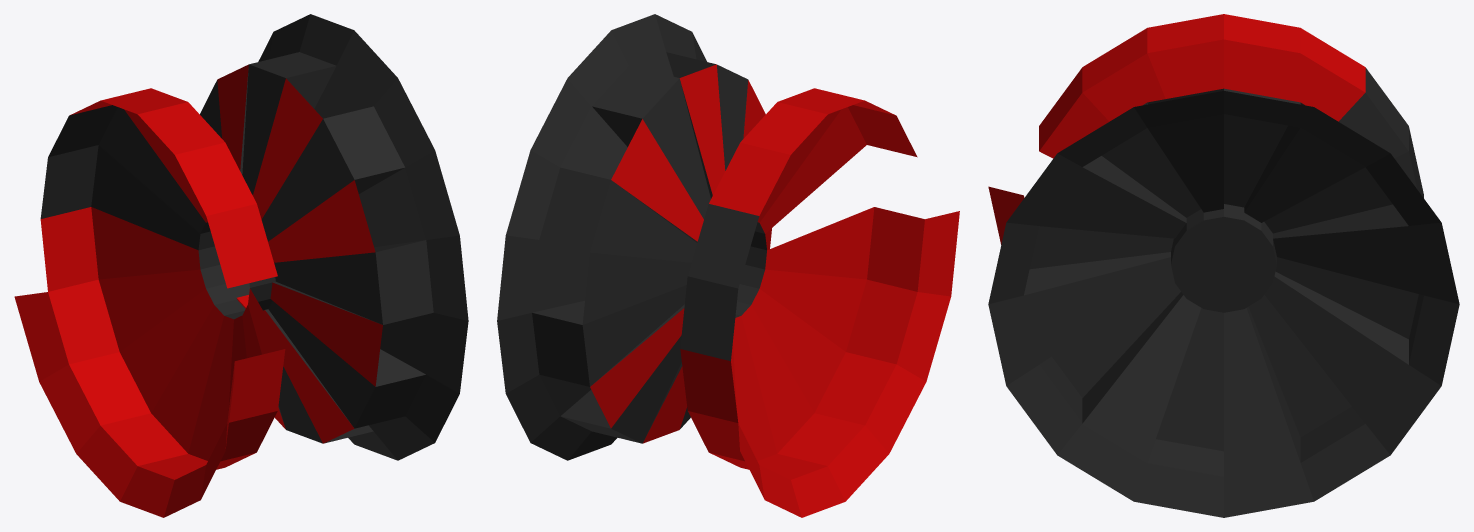
File: carRightTireFrame.obj
3 renders of one model, left to right at view 1: azimuth 30°, elevation 25°; view 2: azimuth 150°, elevation 25°; view 3: azimuth 270°, elevation 25°, orthographic. The views are drawn at different scales.
Parts seen in each view (by area): view 1: rightTireFrame_Cube.008; view 2: rightTireFrame_Cube.008; view 3: rightTireFrame_Cube.008.
Part boxes in pixels (x1,y1,x2,y2): rightTireFrame_Cube.008: [14, 14, 468, 517]; rightTireFrame_Cube.008: [497, 14, 959, 517]; rightTireFrame_Cube.008: [988, 14, 1459, 517].
Size of the model in its own units: 0.3232 by 0.546 by 0.546.
